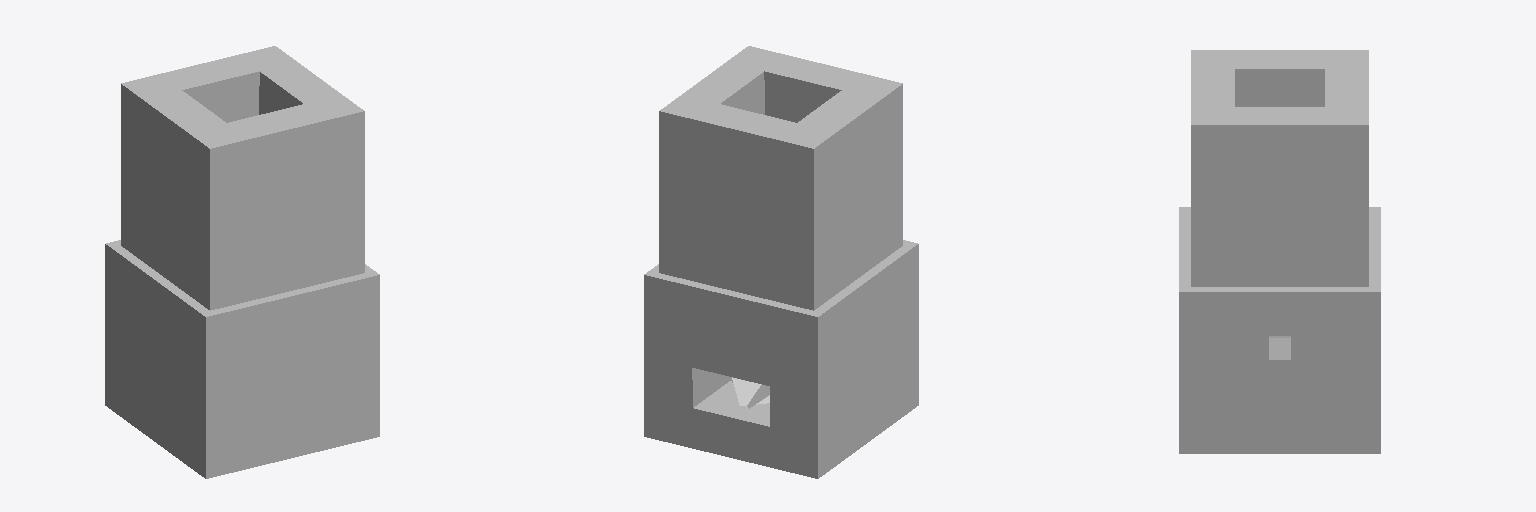
The model's file is bloomery.obj.
3 renders of one model, left to right at view 1: azimuth 30°, elevation 25°; view 2: azimuth 150°, elevation 25°; view 3: azimuth 270°, elevation 25°, orthographic.
Parts seen in each view (by area): view 1: Cube_Cube.001; view 2: Cube_Cube.001; view 3: Cube_Cube.001.
Part boxes in pixels (left/top/right/bottom): Cube_Cube.001: left=105, top=46, right=379, bottom=478; Cube_Cube.001: left=644, top=46, right=918, bottom=478; Cube_Cube.001: left=1179, top=50, right=1380, bottom=453.
Size of the model in its own units: 1.3 by 2 by 1.12.